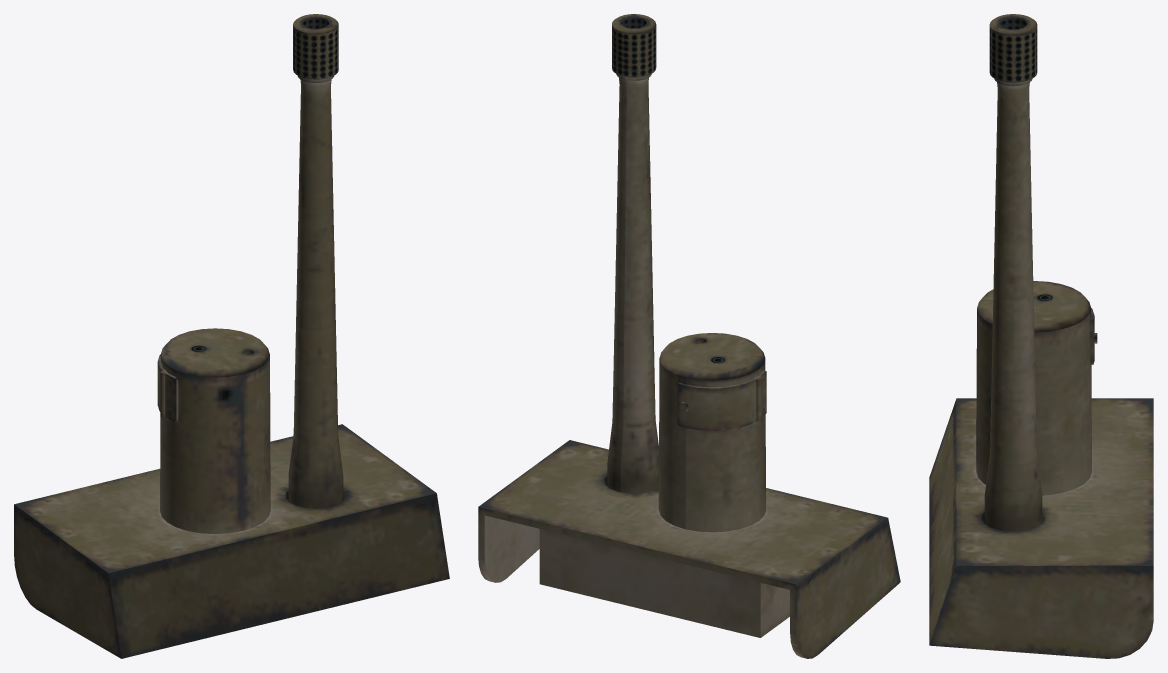
File: Gun_04.glb
The picture shows the model from 3 angles, left to right: view 1: azimuth 30°, elevation 25°; view 2: azimuth 150°, elevation 25°; view 3: azimuth 270°, elevation 25°; orthographic projection. The views are drawn at different scales.
Parts seen in each view (by area): view 1: set_0_group_0; view 2: set_0_group_0; view 3: set_0_group_0.
Part boxes in pixels (x1,y1,x2,y2): set_0_group_0: (14, 14, 449, 658); set_0_group_0: (478, 14, 900, 658); set_0_group_0: (929, 14, 1153, 658).
Bounding box in the file's own units: 0.774 × 1.27 × 0.4384.
1 material, 1 textured.
